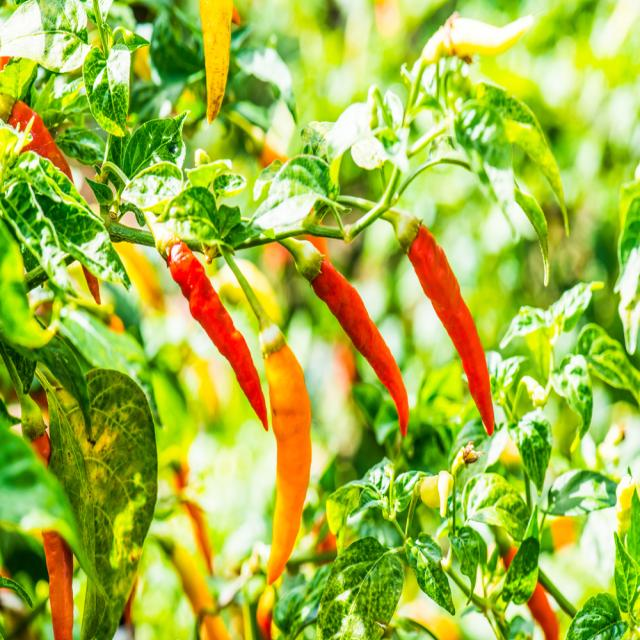Half-Ripe: (264, 343, 311, 584)
Ripe: (168, 242, 268, 429), (409, 225, 495, 435), (312, 259, 409, 435), (0, 95, 74, 182), (43, 530, 72, 638), (528, 583, 560, 640)
